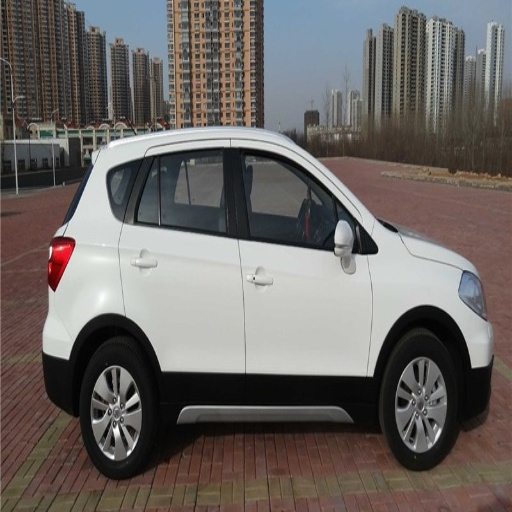back_right_door: (120, 138, 246, 409)
front_right_door: (234, 139, 372, 403)
